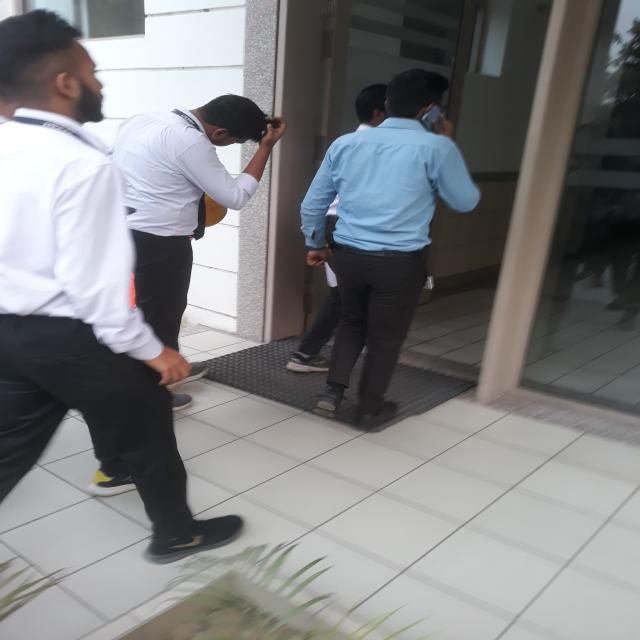unsafe: (11, 32, 256, 570), (302, 72, 476, 430), (119, 89, 274, 374)
